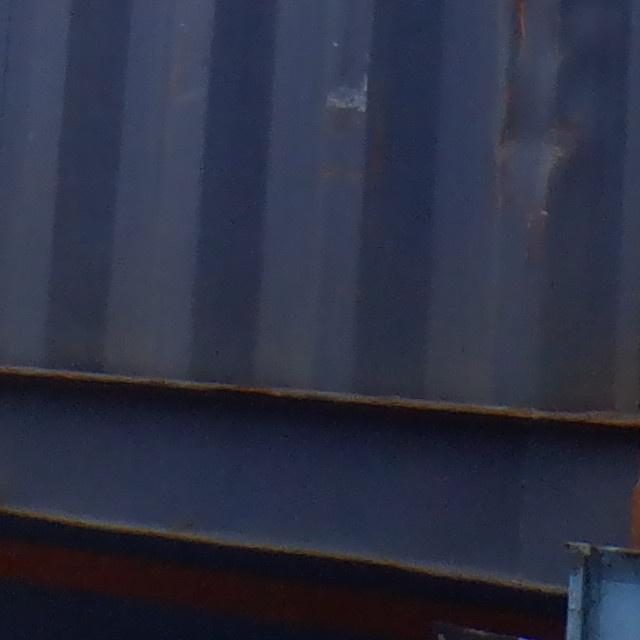dent: (493, 1, 635, 190)
